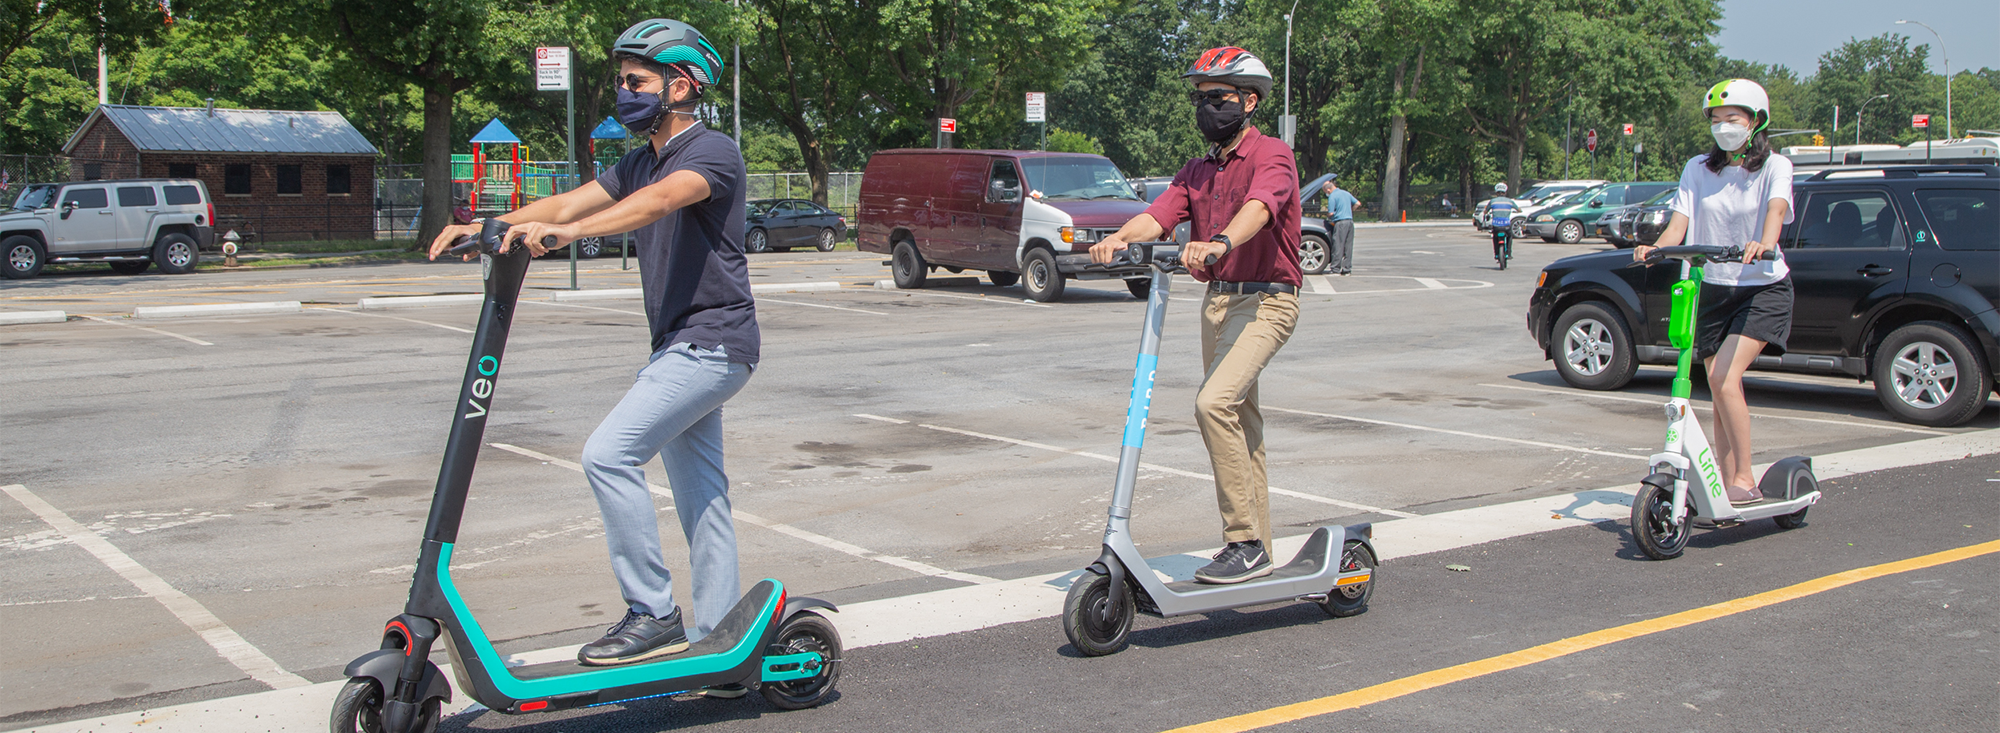scooter: (321, 213, 846, 733), (1060, 229, 1371, 659), (1610, 245, 1828, 570)
with helmet: (588, 17, 721, 134), (1167, 34, 1296, 148), (1699, 70, 1778, 177)
